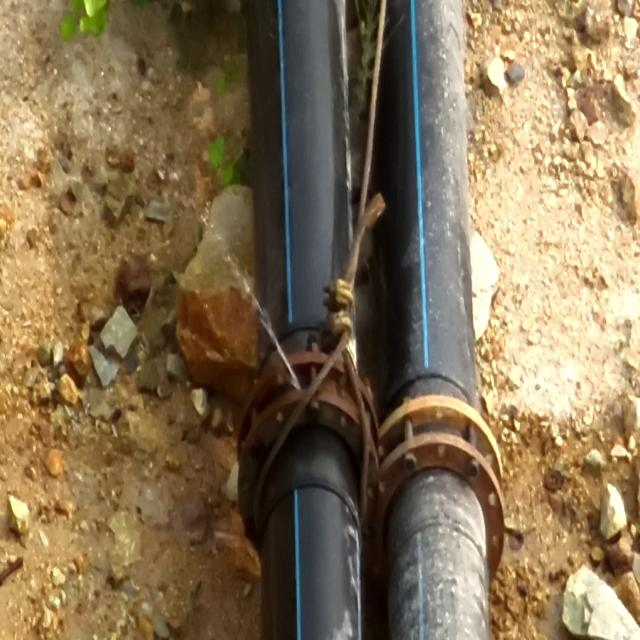leak: (159, 194, 305, 403)
